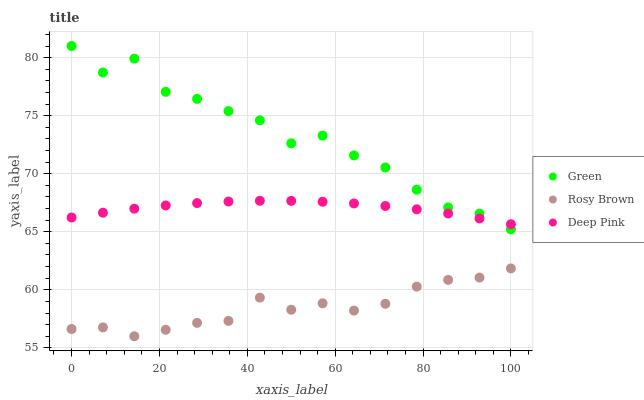axis: (56, 347, 536, 358), (41, 30, 53, 348)
legend: (533, 157, 644, 243)
point: (408, 178, 423, 196), (63, 214, 80, 225), (319, 197, 332, 211), (286, 134, 298, 149), (190, 314, 203, 327), (347, 148, 359, 162), (128, 331, 141, 343), (128, 204, 143, 214), (506, 263, 519, 274), (381, 201, 393, 212), (158, 86, 171, 96), (504, 217, 517, 227), (472, 204, 484, 214), (475, 211, 484, 224), (505, 225, 518, 234), (349, 304, 358, 317), (442, 210, 453, 220), (256, 199, 269, 207), (411, 282, 422, 291), (225, 107, 234, 117), (254, 291, 261, 302), (316, 300, 327, 306), (194, 201, 203, 208), (444, 202, 453, 208)
